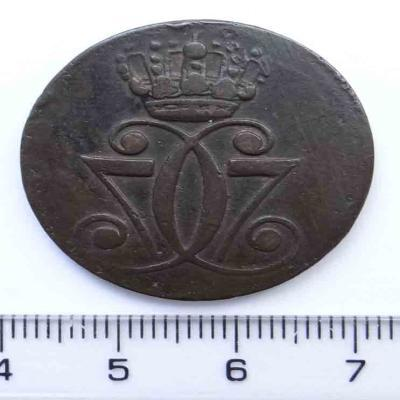numismatics: (22, 20, 373, 300)
